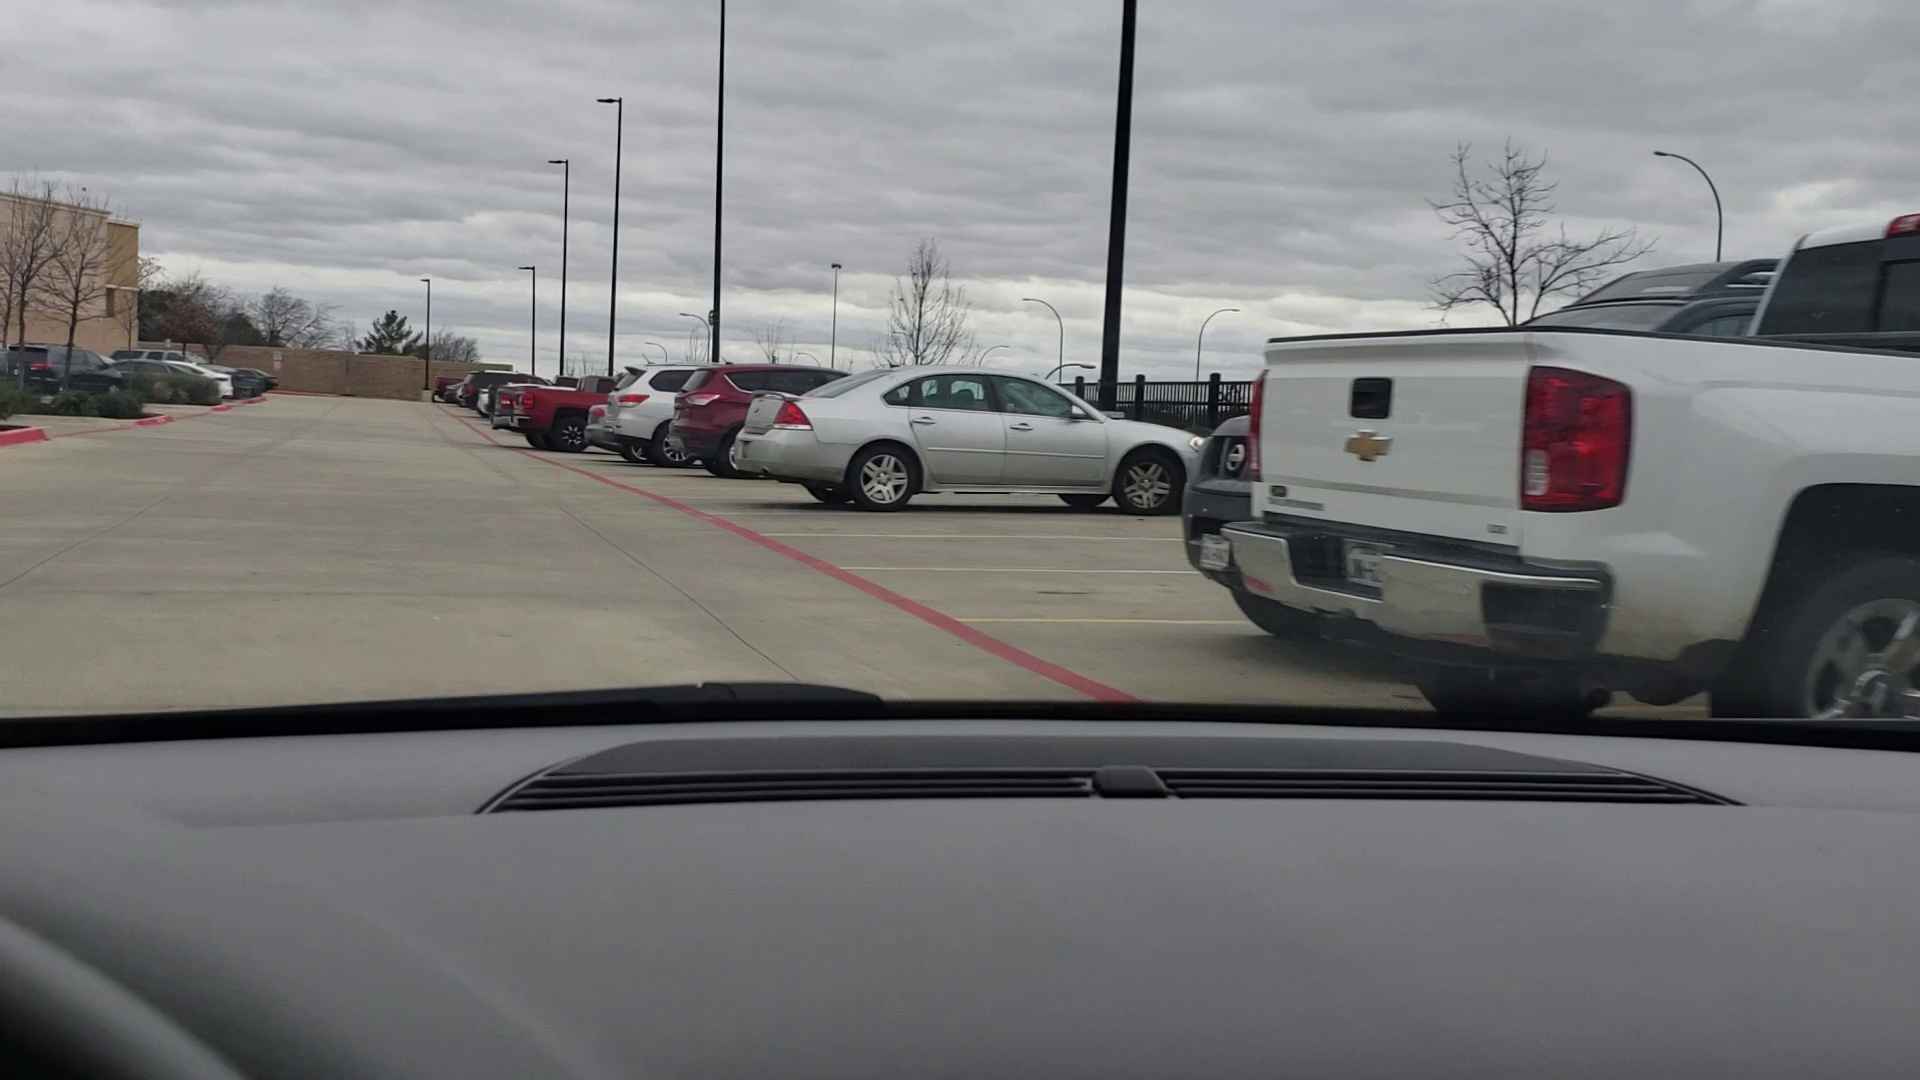car: (746, 349, 1212, 513), (679, 340, 866, 475), (1188, 407, 1294, 636), (612, 359, 715, 462), (1, 338, 121, 413), (111, 343, 244, 407), (105, 349, 222, 407), (465, 363, 531, 407), (582, 400, 624, 458), (224, 359, 276, 400)
truck: (1255, 164, 1920, 713), (492, 363, 626, 446)
